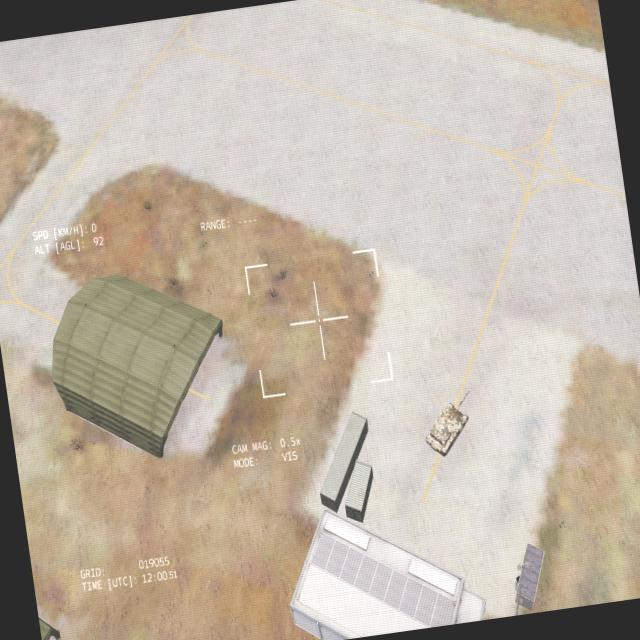tank: (418, 388, 480, 459)
